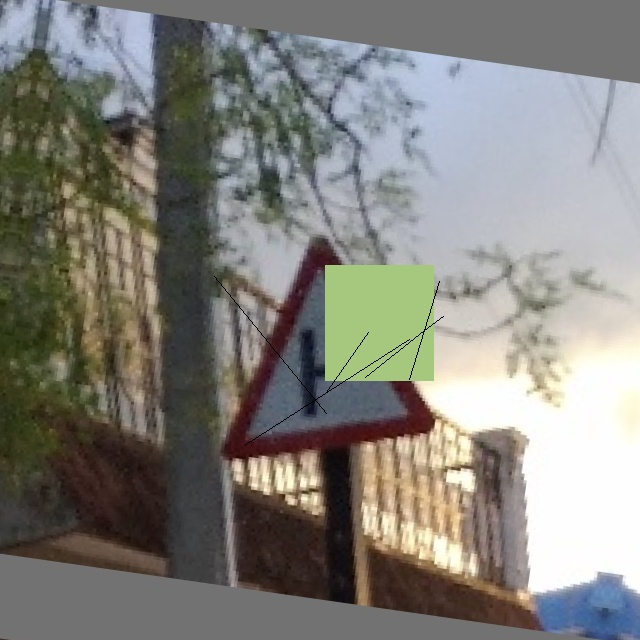Side_Road_Right: (209, 224, 445, 465)
